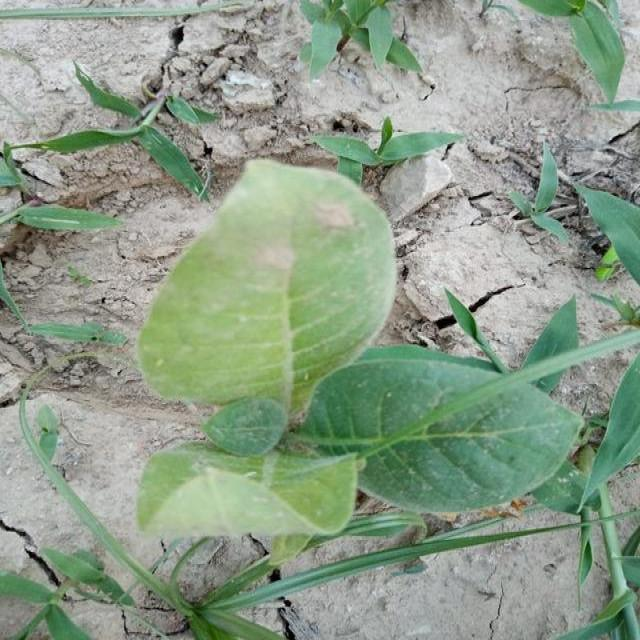crop: (144, 164, 579, 534)
